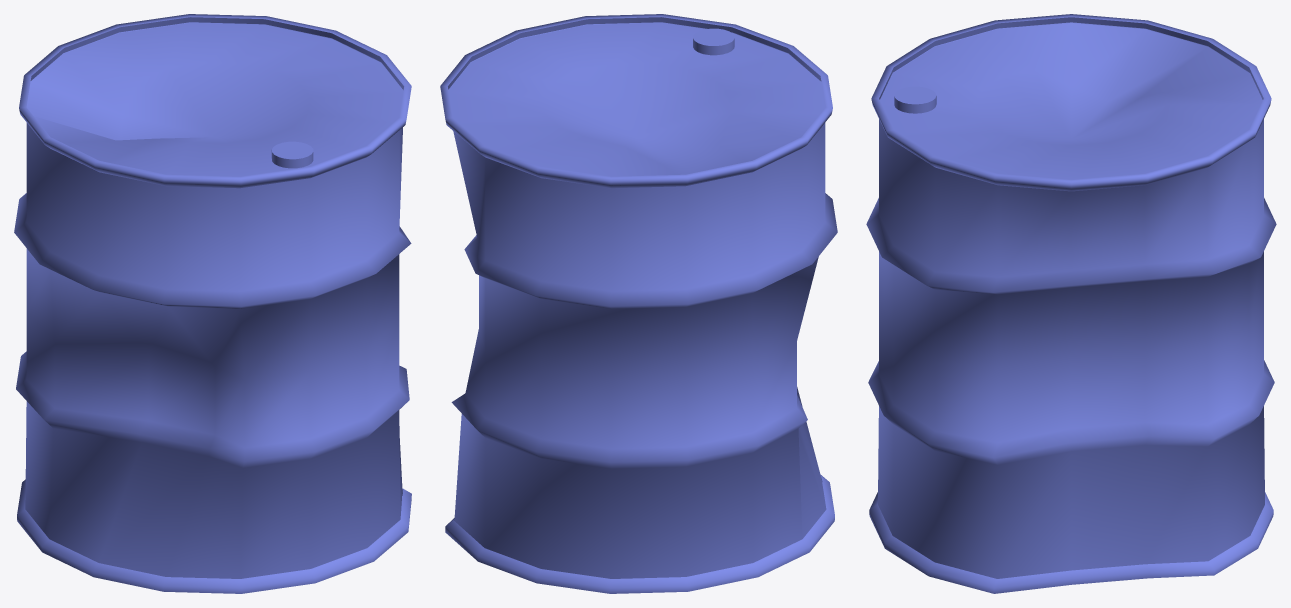
The model's file is doramu.fbx.
3 views of the same model, side by side, from view 1: azimuth 30°, elevation 25°; view 2: azimuth 150°, elevation 25°; view 3: azimuth 270°, elevation 25° (orthographic).
Visible parts, largest first — view 1: pCylinder3_1; view 2: pCylinder3_1; view 3: pCylinder3_1.
Boxes of the visible parts, bbox=[...] form: pCylinder3_1: bbox=[14, 14, 411, 593]; pCylinder3_1: bbox=[440, 14, 837, 593]; pCylinder3_1: bbox=[866, 14, 1276, 593].
Bounding box in the file's own units: 84.27 × 96.49 × 85.3.
